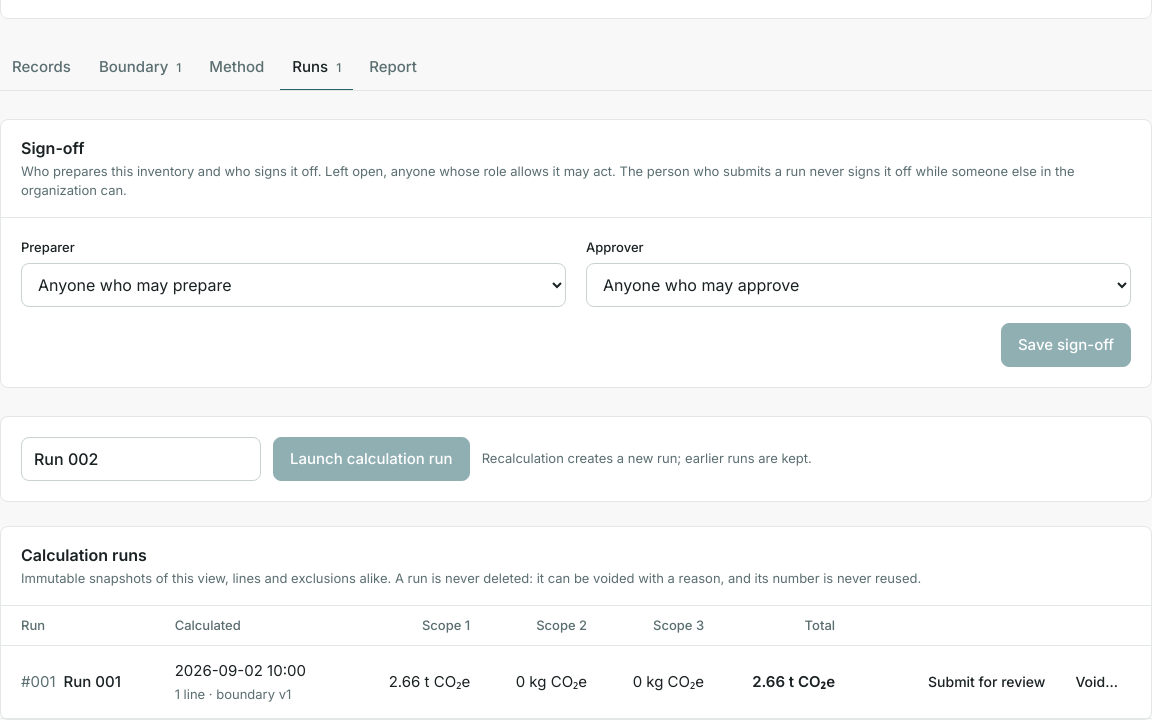
Test case: a run of a frozen inventory is submitted for review with a note (spec 05.8)
(page scrolled)
# nothing is signed off before it is submitted, so a frozen inventory offers the submission only
Click the button "Submit for review" at [987, 682], box left=915, top=664, right=1058, bottom=700
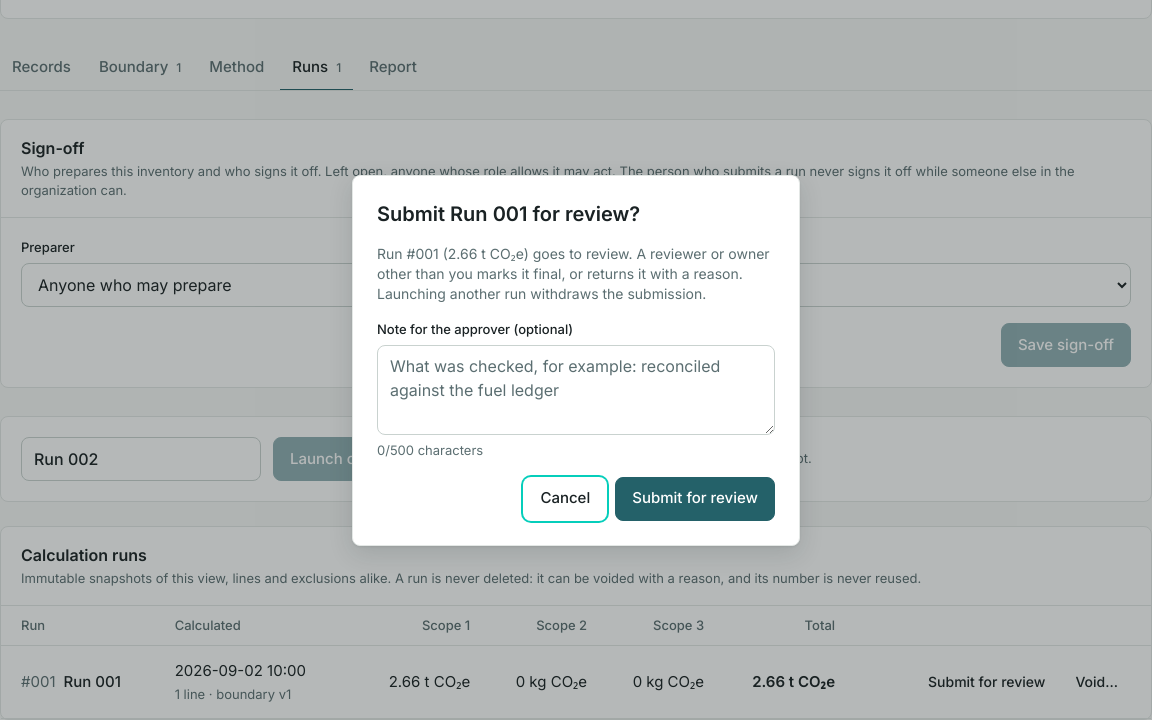
Expected: the text "A reviewer or owner other than you marks it final" is shown, left=377, top=244, right=770, bottom=302
Type "fuel ledger attached" into the text box labelled "Note for the approver (optional)" at [576, 390], box left=377, top=345, right=775, bottom=435
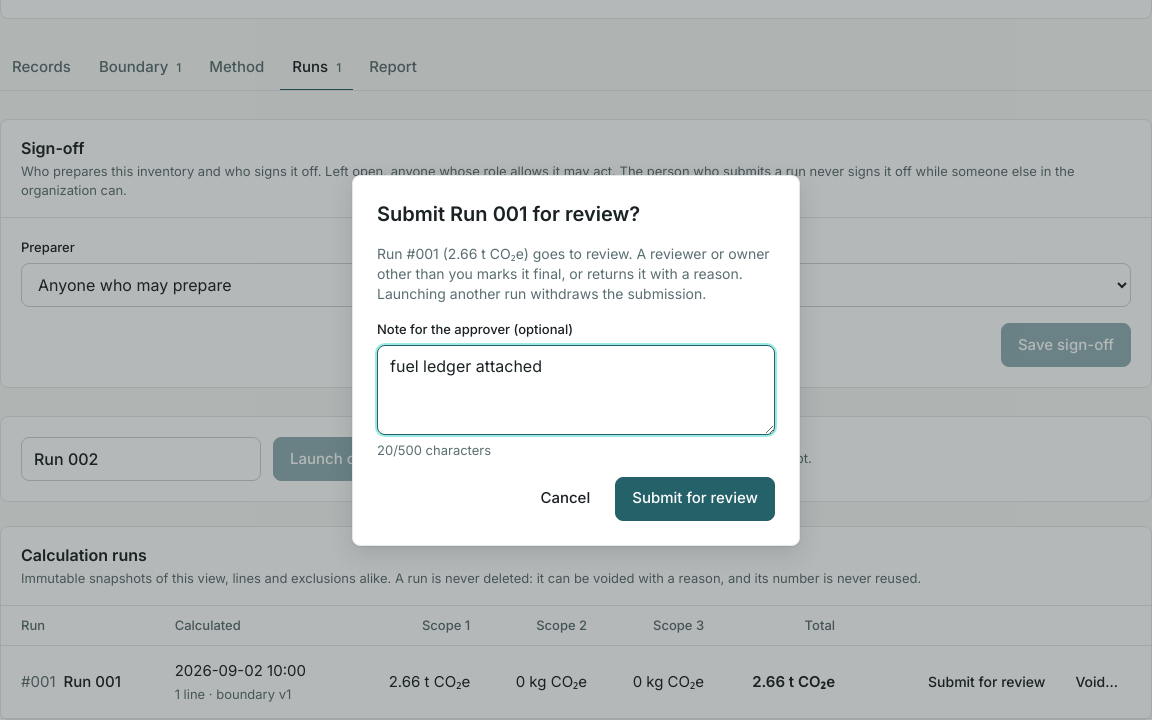
Click the button "Submit for review" at [695, 498], box left=615, top=476, right=775, bottom=520
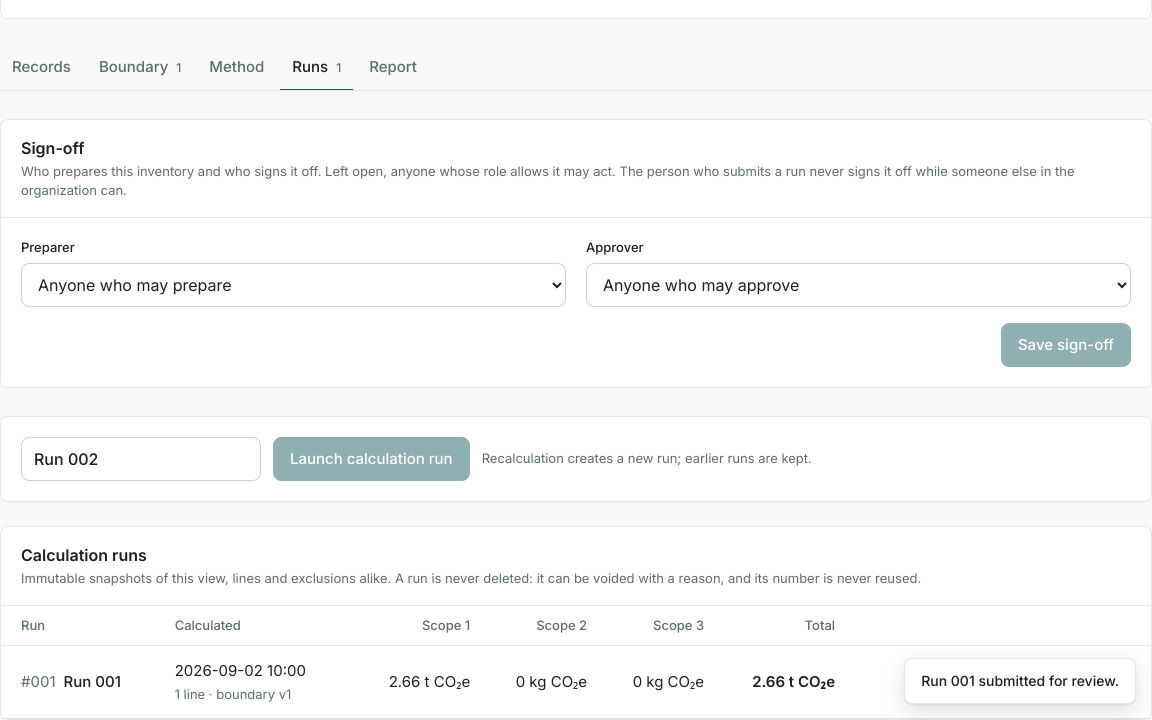
Expected: the text "Run 001 submitted for review." is shown, left=904, top=658, right=1136, bottom=704
